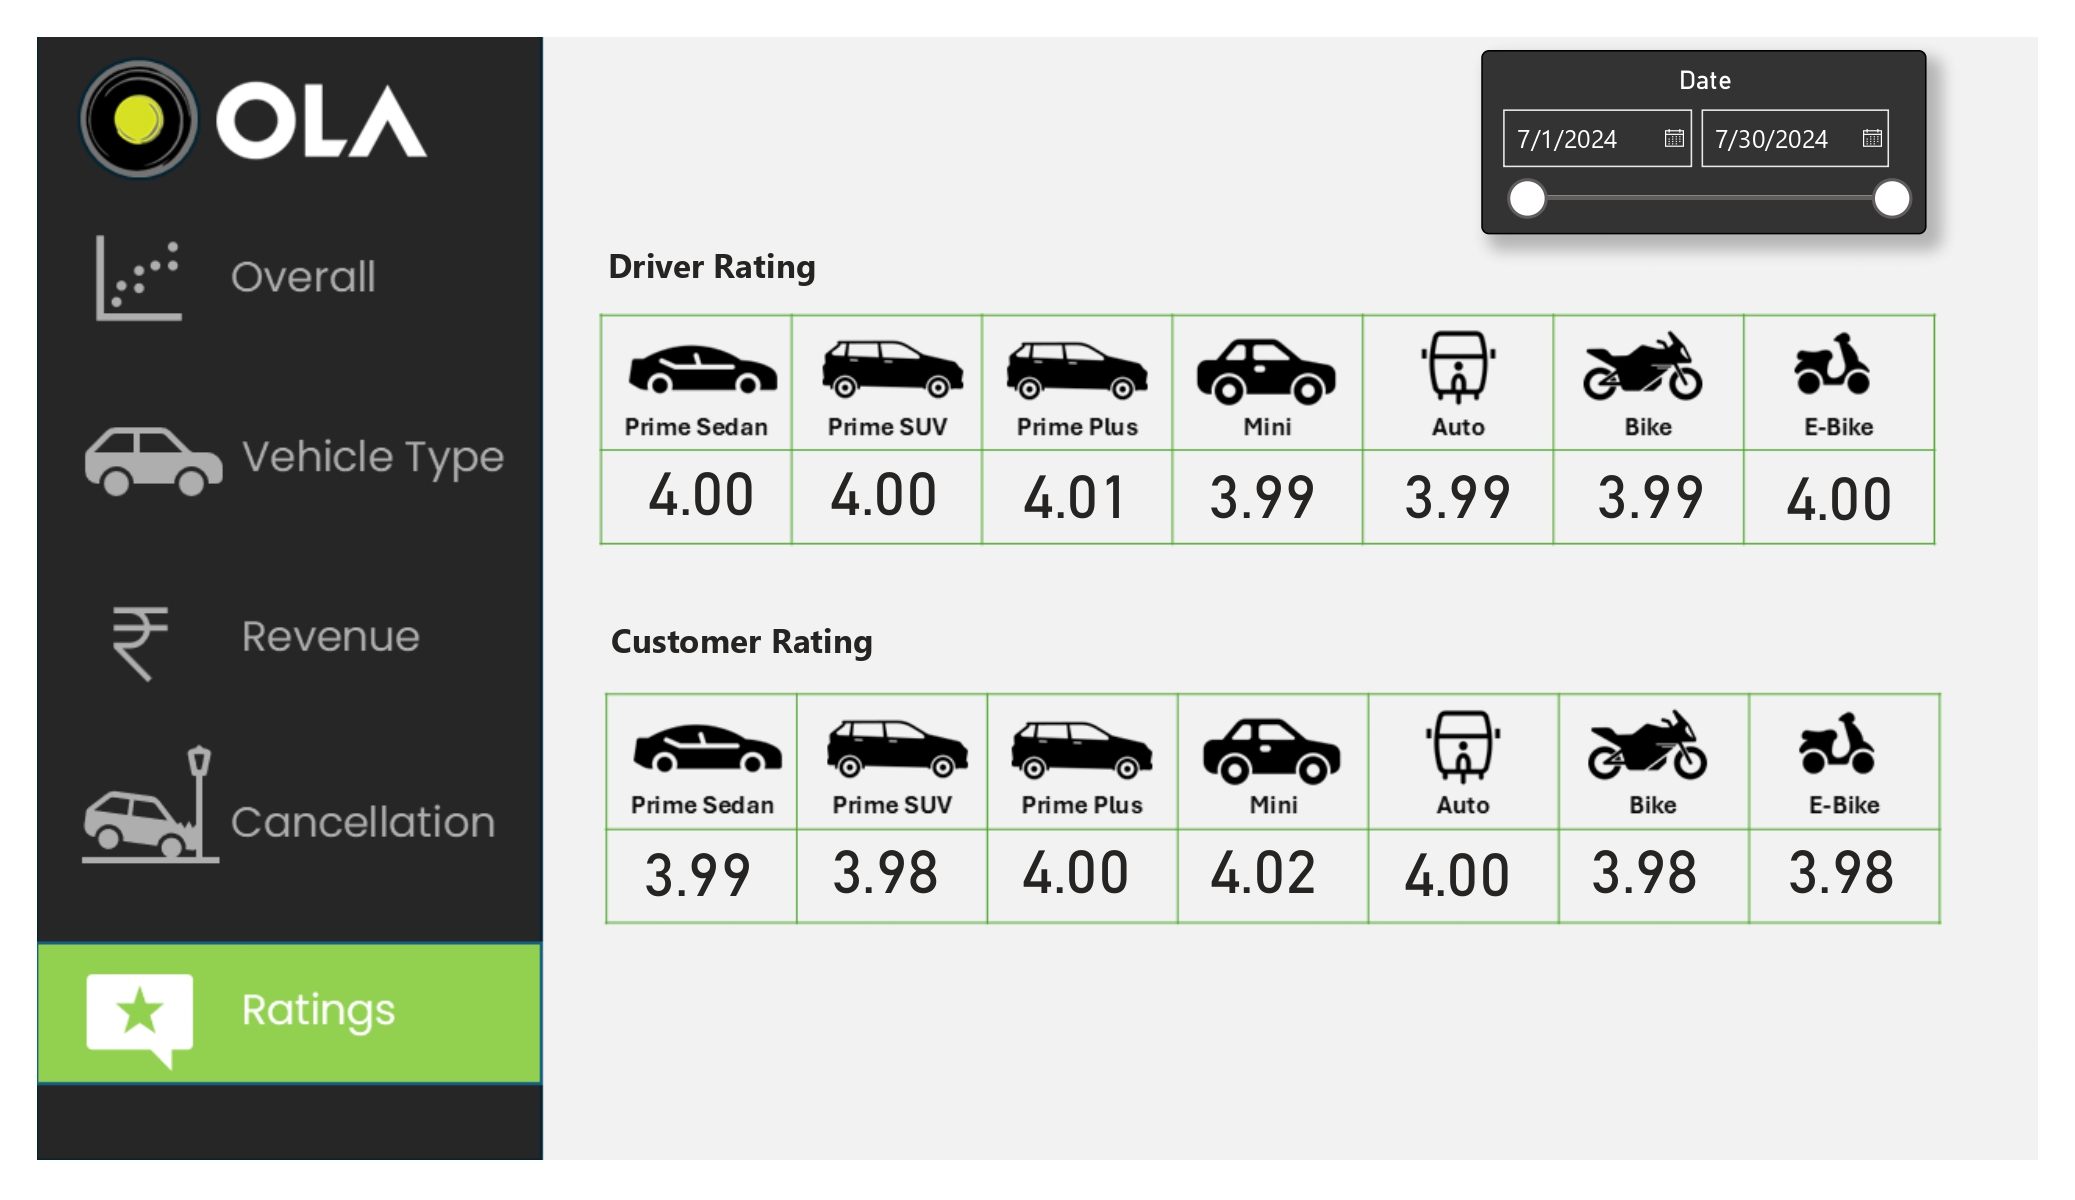

Layout of this report page (visuals, bound fields, positions):
{"tool":"powerbi","page":{"name":"Ratings","canvas":[1280,720],"ordinal":4},"visuals":[{"type":"actionButton","box":[0,224,325,91],"z":0},{"type":"actionButton","box":[0,338,325,93],"z":1000},{"type":"actionButton","box":[0,447,325,93],"z":2000},{"type":"actionButton","box":[0,110,325,93],"z":3000},{"type":"card","fields":{"Values":["Avg(July.Driver_Ratings)"]},"box":[368.1,261.2,113.6,54.3],"z":3001},{"type":"card","fields":{"Values":["Avg(July.Driver_Ratings)"]},"box":[608.1,263.7,113.7,52.7],"z":3002},{"type":"card","fields":{"Values":["Avg(July.Driver_Ratings)"]},"box":[484.5,262,113.7,52.7],"z":3003},{"type":"card","fields":{"Values":["Avg(July.Driver_Ratings)"]},"box":[975.7,263.7,113.7,52.7],"z":3004},{"type":"card","fields":{"Values":["Avg(July.Driver_Ratings)"]},"box":[1096,265.3,113.7,52.7],"z":3005},{"type":"card","fields":{"Values":["Avg(July.Driver_Ratings)"]},"box":[726.8,263.7,113.7,52.7],"z":3006},{"type":"card","fields":{"Values":["Avg(July.Driver_Ratings)"]},"box":[852.1,263.7,113.7,52.7],"z":3007},{"type":"textbox","box":[361.7,365.9,197.7,46.3],"z":3008},{"type":"textbox","box":[359.6,126.2,172.4,46.3],"z":3009},{"type":"card","fields":{"Values":["Avg(July.Customer_Rating)"]},"box":[365.9,504.7,113.6,54.7],"z":3010},{"type":"card","fields":{"Values":["Avg(July.Customer_Rating)"]},"box":[485.8,502.6,113.6,54.7],"z":3011},{"type":"card","fields":{"Values":["Avg(July.Customer_Rating)"]},"box":[727.6,502.6,113.6,54.7],"z":3012},{"type":"card","fields":{"Values":["Avg(July.Customer_Rating)"]},"box":[607.8,502.6,113.6,54.7],"z":3013},{"type":"card","fields":{"Values":["Avg(July.Customer_Rating)"]},"box":[851.7,504.7,113.6,54.7],"z":3014},{"type":"card","fields":{"Values":["Avg(July.Customer_Rating)"]},"box":[971.6,502.6,113.6,54.7],"z":3015},{"type":"card","fields":{"Values":["Avg(July.Customer_Rating)"]},"box":[1097.8,502.6,113.6,54.7],"z":3016},{"type":"slicer","title":"Date","fields":{"Values":["July.Date"]},"box":[924.1,8,284.7,117.7],"z":3017}]}

Visuals, with their boxes on the page's 1280x720 design canvas (x1, y1, x2, y2). These are canvas units, not pixel positions in the 2075x1200 screenshot, which may show the page scaled, cropped or inside an application window:
actionButton: pyautogui.locateOnScreen(0, 224, 325, 315)
actionButton: pyautogui.locateOnScreen(0, 338, 325, 431)
actionButton: pyautogui.locateOnScreen(0, 447, 325, 540)
actionButton: pyautogui.locateOnScreen(0, 110, 325, 203)
card - Avg(July.Driver_Ratings): pyautogui.locateOnScreen(368, 261, 482, 316)
card - Avg(July.Driver_Ratings): pyautogui.locateOnScreen(608, 264, 722, 316)
card - Avg(July.Driver_Ratings): pyautogui.locateOnScreen(484, 262, 598, 315)
card - Avg(July.Driver_Ratings): pyautogui.locateOnScreen(976, 264, 1089, 316)
card - Avg(July.Driver_Ratings): pyautogui.locateOnScreen(1096, 265, 1210, 318)
card - Avg(July.Driver_Ratings): pyautogui.locateOnScreen(727, 264, 840, 316)
card - Avg(July.Driver_Ratings): pyautogui.locateOnScreen(852, 264, 966, 316)
textbox: pyautogui.locateOnScreen(362, 366, 559, 412)
textbox: pyautogui.locateOnScreen(360, 126, 532, 172)
card - Avg(July.Customer_Rating): pyautogui.locateOnScreen(366, 505, 480, 559)
card - Avg(July.Customer_Rating): pyautogui.locateOnScreen(486, 503, 599, 557)
card - Avg(July.Customer_Rating): pyautogui.locateOnScreen(728, 503, 841, 557)
card - Avg(July.Customer_Rating): pyautogui.locateOnScreen(608, 503, 721, 557)
card - Avg(July.Customer_Rating): pyautogui.locateOnScreen(852, 505, 965, 559)
card - Avg(July.Customer_Rating): pyautogui.locateOnScreen(972, 503, 1085, 557)
card - Avg(July.Customer_Rating): pyautogui.locateOnScreen(1098, 503, 1211, 557)
"Date" slicer: pyautogui.locateOnScreen(924, 8, 1209, 126)
